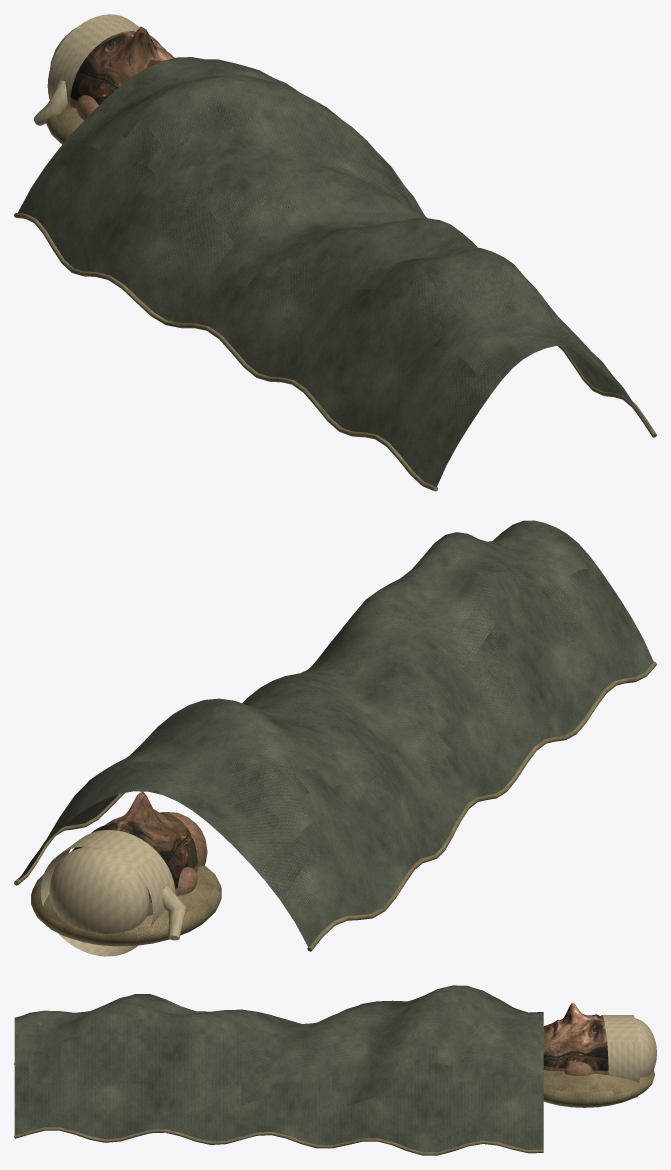
File: WardPatient.fbx
The picture shows the model from 3 angles, top to bottom: view 1: azimuth 30°, elevation 25°; view 2: azimuth 150°, elevation 25°; view 3: azimuth 270°, elevation 25°; orthographic projection. The views are drawn at different scales.
Visible parts, largest first — view 1: Patient_under_a_wool_quilt; view 2: Patient_under_a_wool_quilt; view 3: Patient_under_a_wool_quilt.
Part boxes in pixels (box(x1,y1,x2,y2)): Patient_under_a_wool_quilt: box(14, 14, 656, 491); Patient_under_a_wool_quilt: box(14, 520, 656, 956); Patient_under_a_wool_quilt: box(14, 985, 656, 1155).
Size of the model in its own units: 0.6266 by 0.3052 by 1.6.
